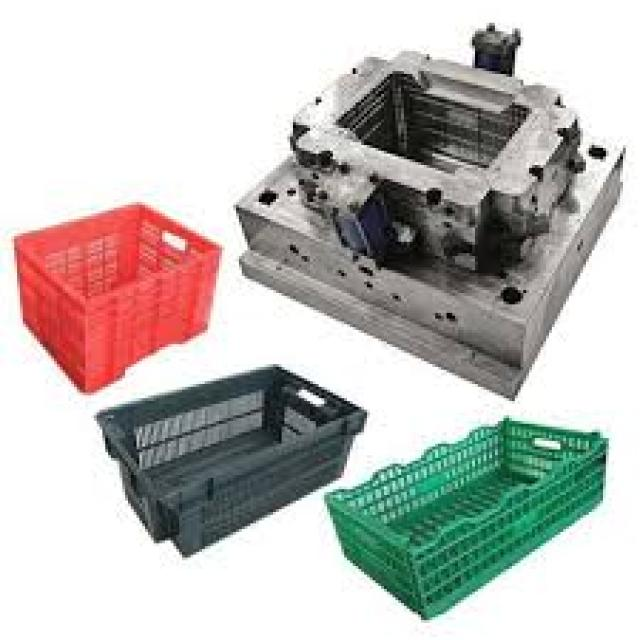basket: (315, 353, 636, 640), (88, 307, 389, 571), (0, 156, 253, 406)
